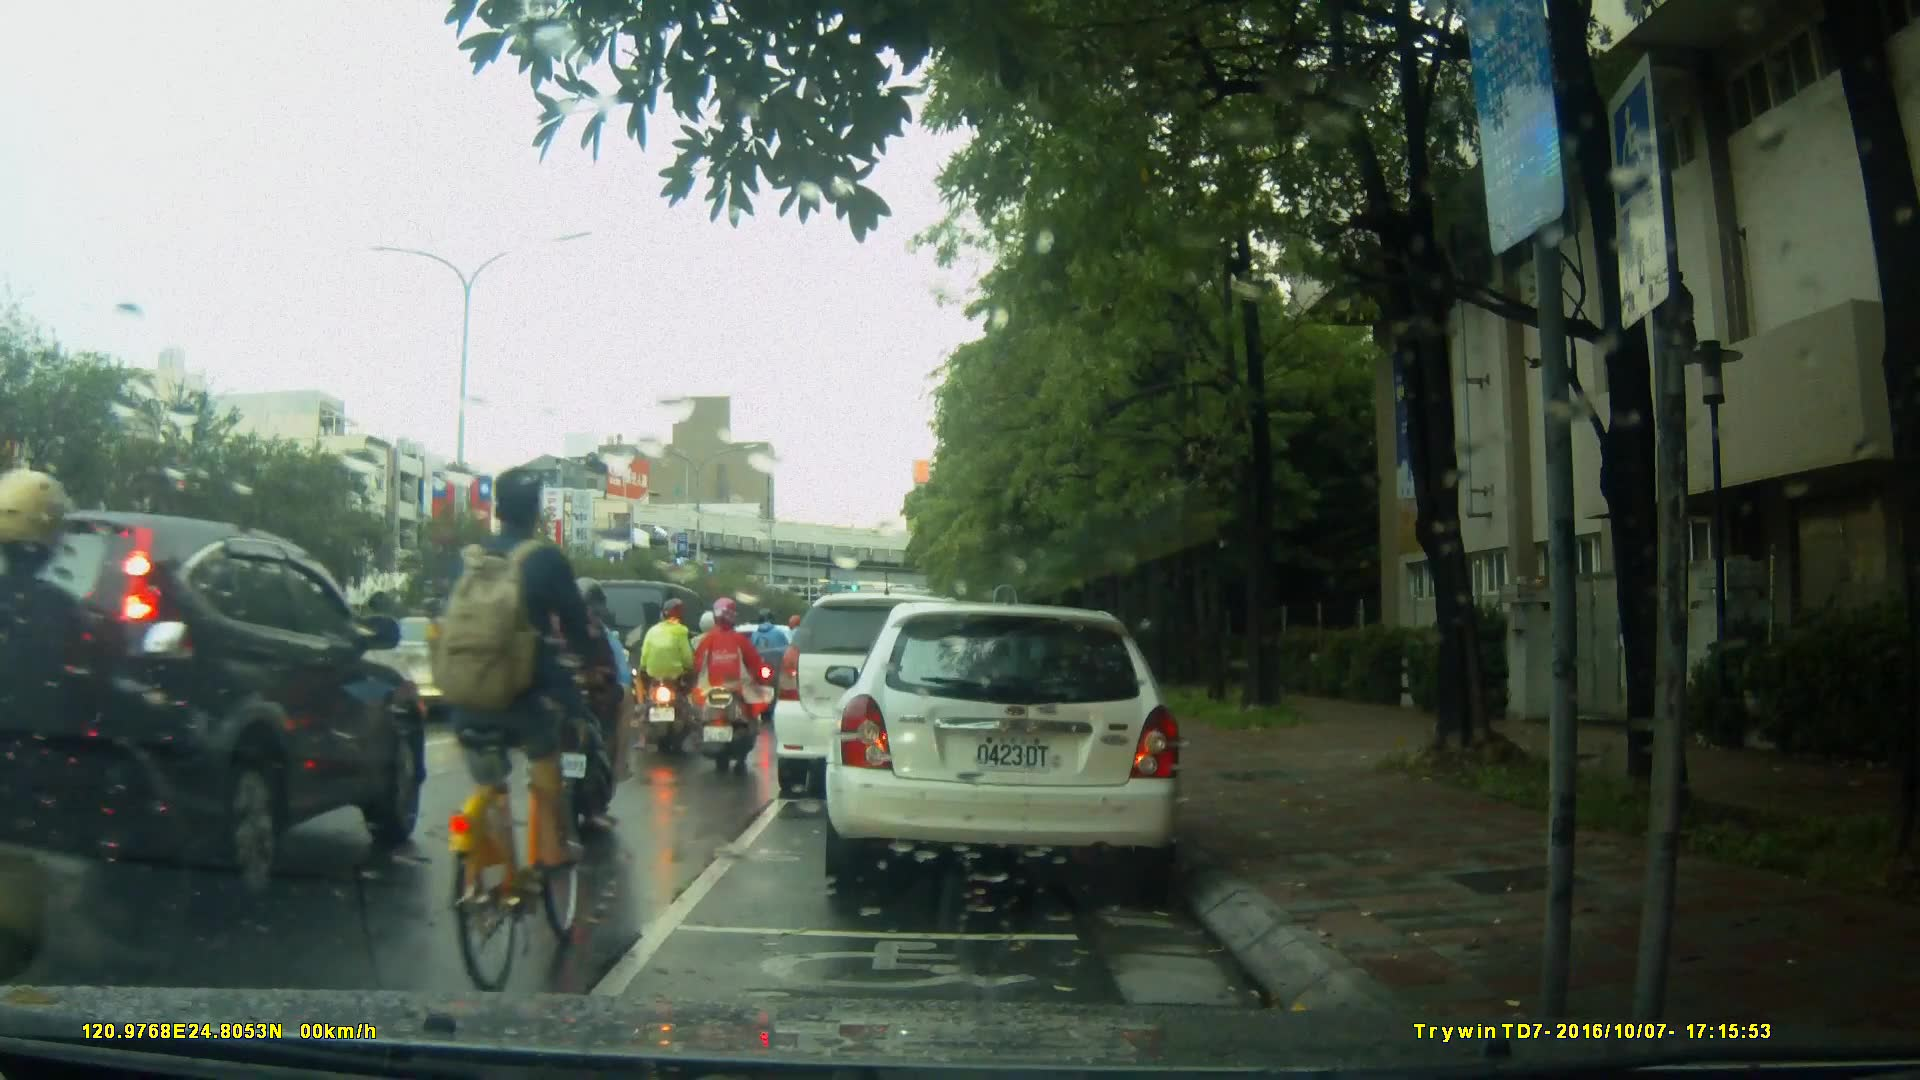rider: (1, 476, 212, 1054), (437, 467, 610, 991), (540, 578, 634, 830), (683, 597, 757, 774), (638, 601, 708, 756), (469, 602, 533, 730), (681, 605, 746, 727), (747, 601, 798, 728)
vehicle: (3, 510, 424, 920), (822, 604, 1188, 883), (774, 595, 995, 802), (341, 610, 527, 725)
